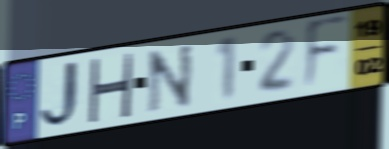1: (213, 33, 239, 105)
2: (256, 28, 297, 96)
F: (301, 11, 351, 96)
H: (86, 52, 136, 124)
J: (38, 57, 85, 132)
N: (145, 40, 196, 116)
